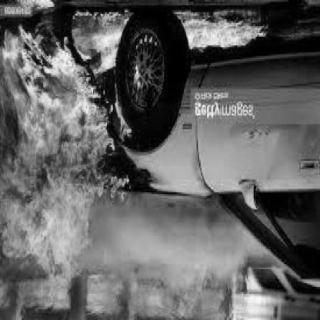Fire: (0, 6, 265, 320)
